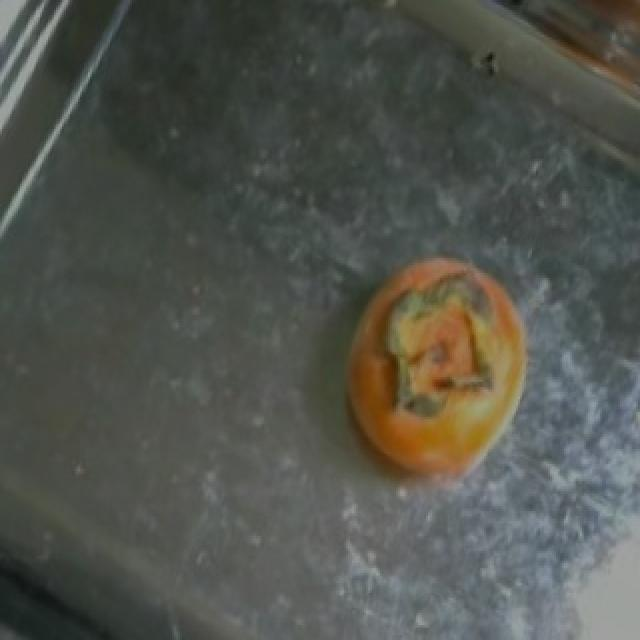Fruit: (326, 236, 554, 524), (496, 0, 640, 136)
